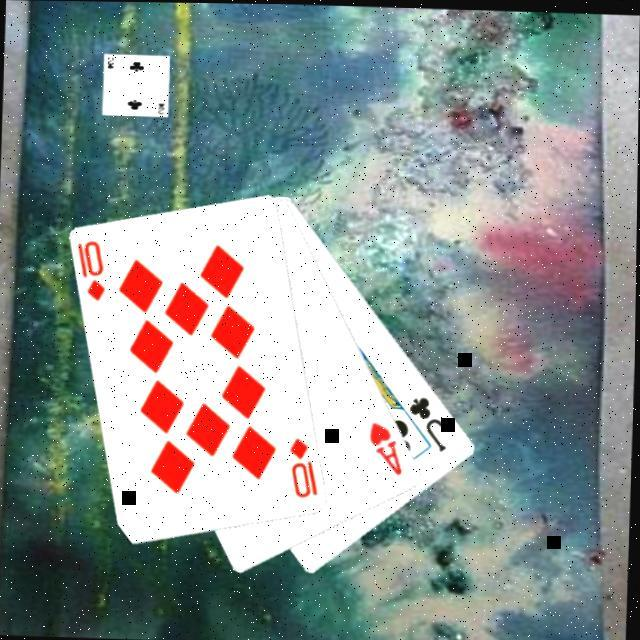10D: (286, 432, 323, 499), (73, 235, 109, 303)
AH: (365, 416, 408, 477)
JC: (404, 390, 452, 453)
